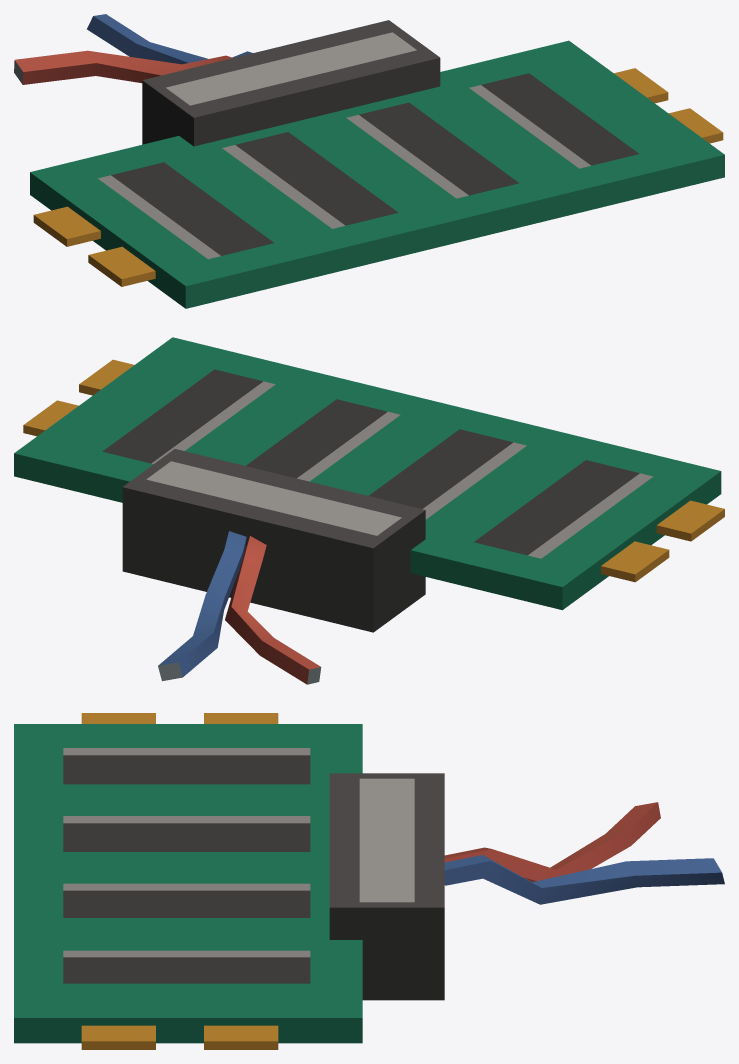
The model's file is AI_Item_Scrap_Electronics_01.fbx.
3 views of the same model, one above another, from view 1: azimuth 30°, elevation 25°; view 2: azimuth 150°, elevation 25°; view 3: azimuth 270°, elevation 25° (orthographic). The views are drawn at different scales.
Parts seen in each view (by area): view 1: AI_Item_Scrap_Electronics_01; view 2: AI_Item_Scrap_Electronics_01; view 3: AI_Item_Scrap_Electronics_01.
Part boxes in pixels (bbox=[...]): AI_Item_Scrap_Electronics_01: bbox=[14, 14, 724, 308]; AI_Item_Scrap_Electronics_01: bbox=[14, 337, 724, 684]; AI_Item_Scrap_Electronics_01: bbox=[14, 713, 724, 1049].
Size of the model in its own units: 1.04 by 0.1371 by 0.9539.
